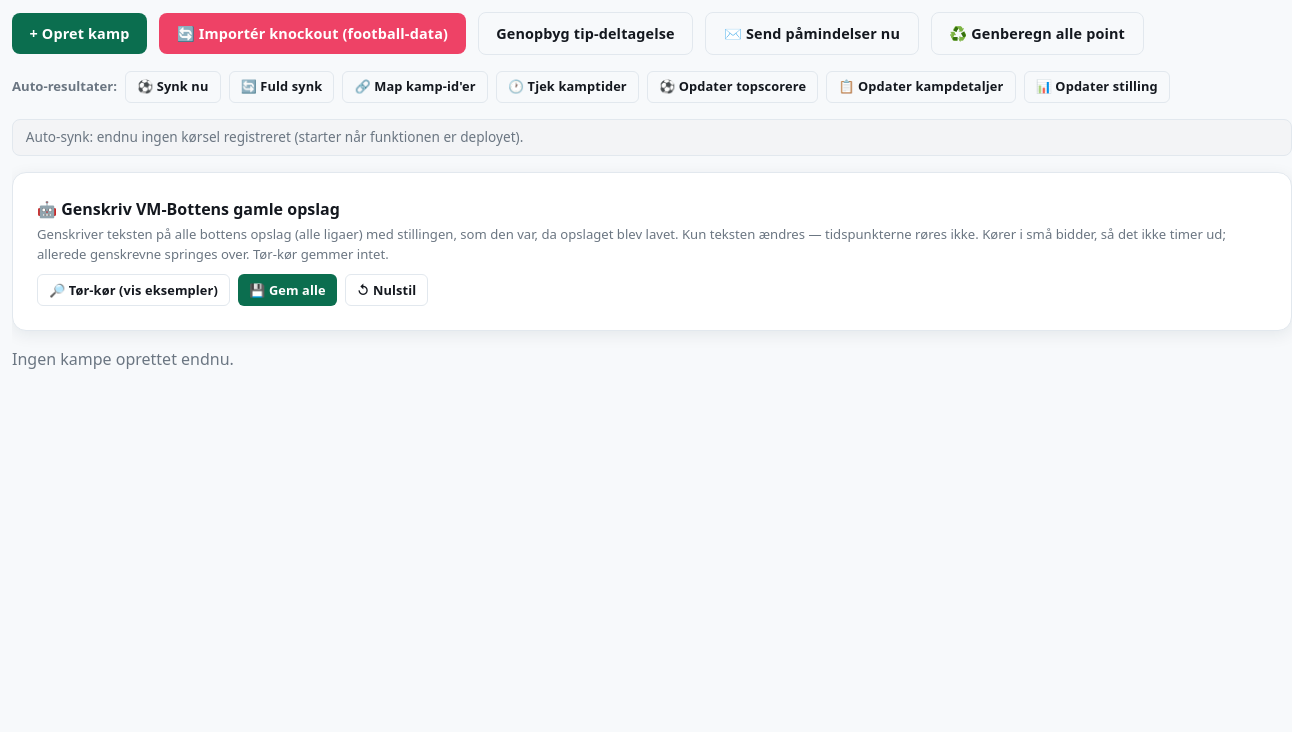
Test: MatchesTab › forhåndsviser (dryRun) ved klik og viser diff-tal
Click the button "🔄 Importér knockout (football-data)" at (312,33), box [159,13,466,54]
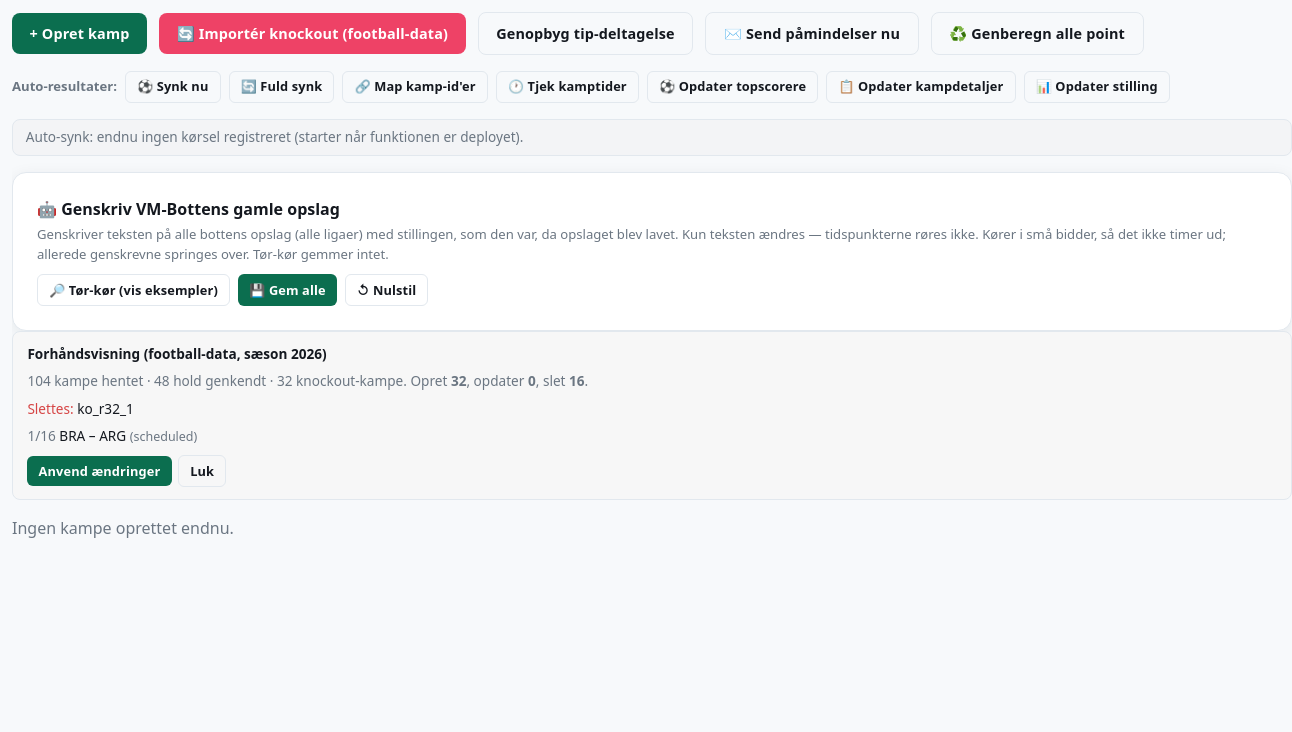
Expected: the text "Forhåndsvisning (football-data, sæson 2026)" is shown, [27,344,327,363]
Expected: the text "Slettes: ko_r32_1" is shown, [27,400,134,418]
